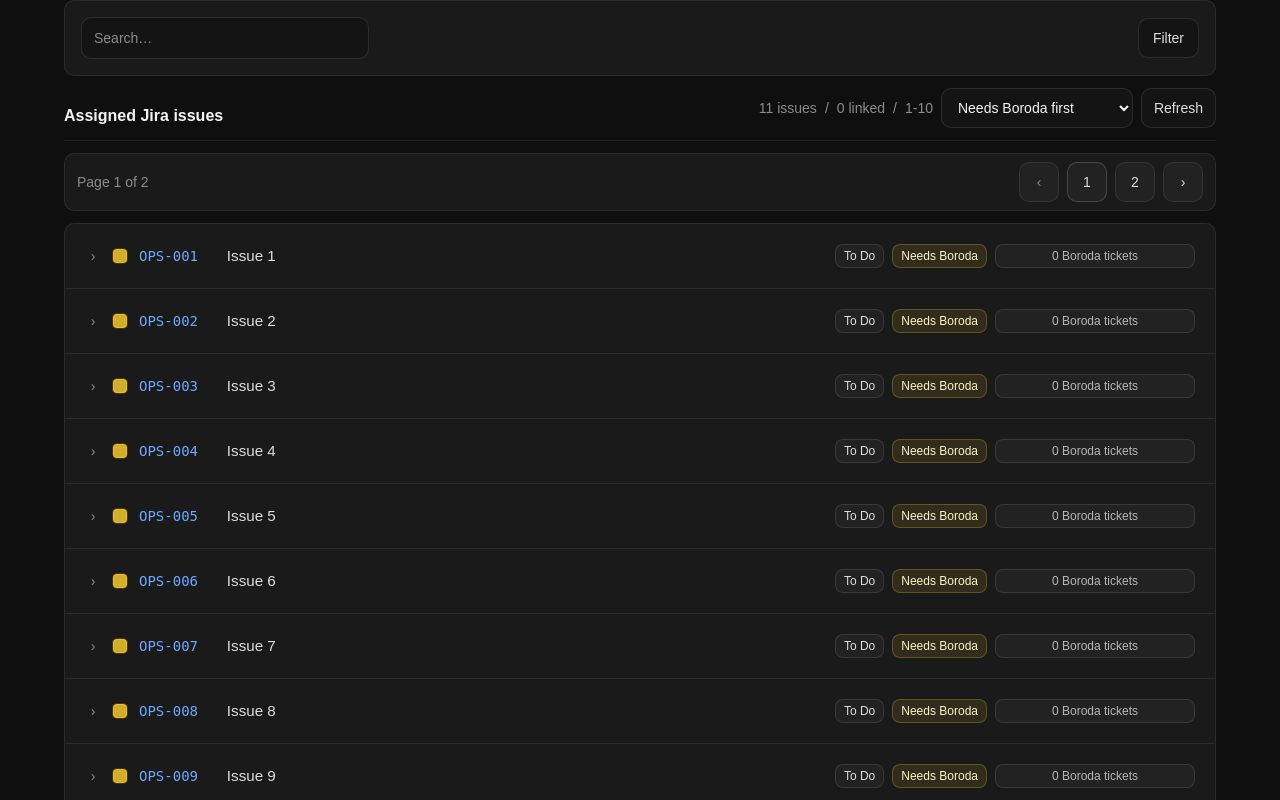
Test case: JiraPage › paginates Jira issues and moves through pages
Expected: the text "Page 1 of 2" is shown, [77,172,149,192]
Expected: the link with aria-label "Open Jira issue OPS-001" is shown, [139,248,198,264]
Click the button named "Next page" at (1183, 182), box [1163,162,1203,202]
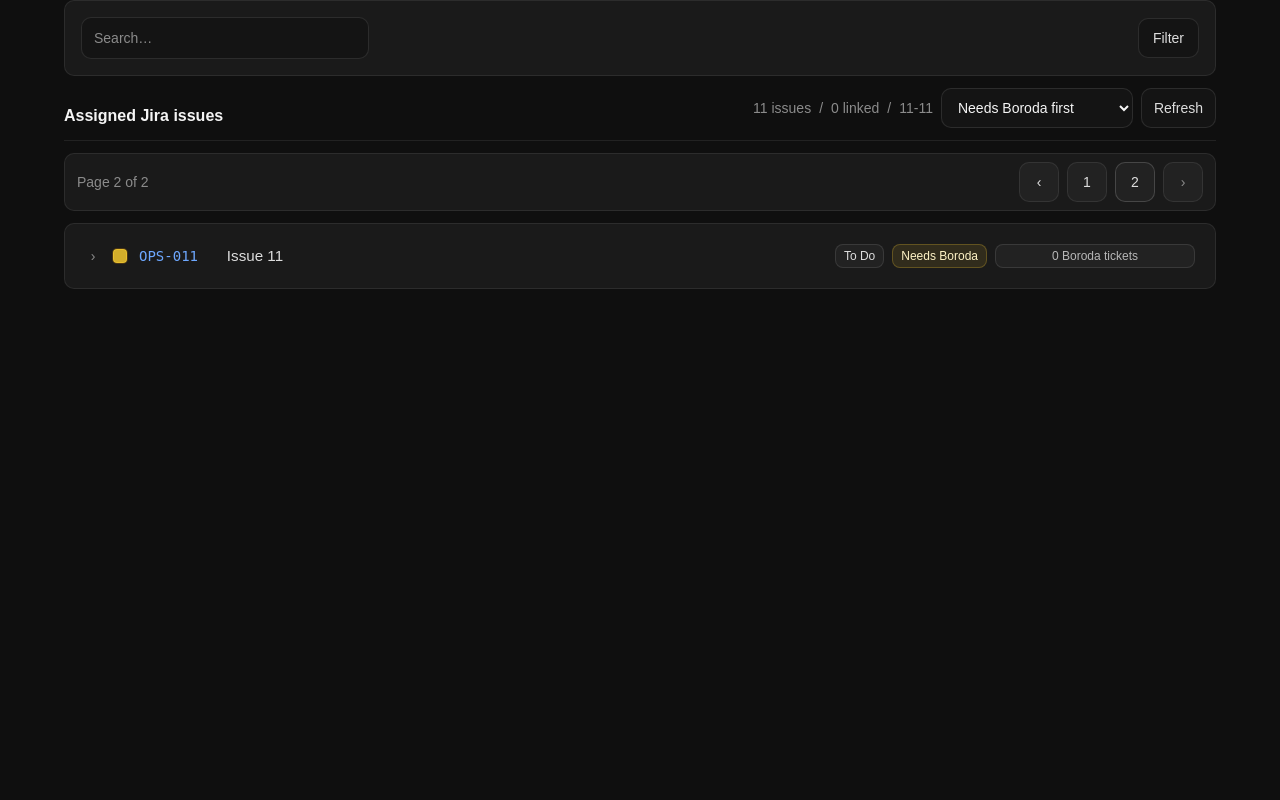
Expected: the button named "Page 2, current page" is shown, [1115,162,1155,202]
Expected: the text "Page 2 of 2" is shown, [77,172,149,192]
Expected: the link with aria-label "Open Jira issue OPS-011" is shown, [139,248,198,264]
